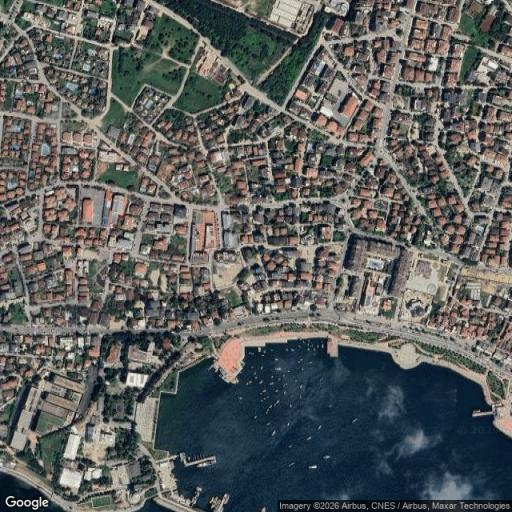ship: (286, 458, 297, 472), (286, 399, 297, 413), (281, 419, 293, 431), (284, 440, 295, 453), (194, 461, 217, 467), (213, 499, 223, 511), (211, 496, 220, 509), (306, 464, 325, 470), (236, 396, 248, 405), (306, 435, 318, 443), (292, 359, 305, 366), (314, 424, 325, 432), (295, 392, 305, 400), (272, 356, 282, 364), (266, 402, 270, 421), (246, 380, 255, 388), (272, 366, 283, 372), (252, 413, 260, 421), (350, 416, 362, 421), (320, 342, 328, 349), (289, 346, 296, 354), (324, 454, 333, 460), (304, 347, 314, 352), (260, 352, 267, 359), (328, 405, 334, 413), (316, 344, 322, 352), (268, 346, 274, 354), (310, 361, 316, 368), (269, 373, 274, 381), (284, 346, 289, 354), (272, 429, 276, 438), (282, 390, 288, 396), (276, 397, 280, 406), (258, 380, 264, 386), (302, 367, 308, 373), (300, 384, 304, 392), (276, 388, 280, 396), (286, 367, 290, 375), (281, 372, 285, 380), (281, 384, 289, 388), (262, 396, 272, 399), (269, 381, 274, 387), (306, 342, 312, 347), (261, 391, 266, 396), (250, 365, 255, 370), (252, 376, 258, 379), (260, 366, 264, 370), (277, 377, 281, 381), (253, 372, 258, 375), (264, 348, 266, 354)
